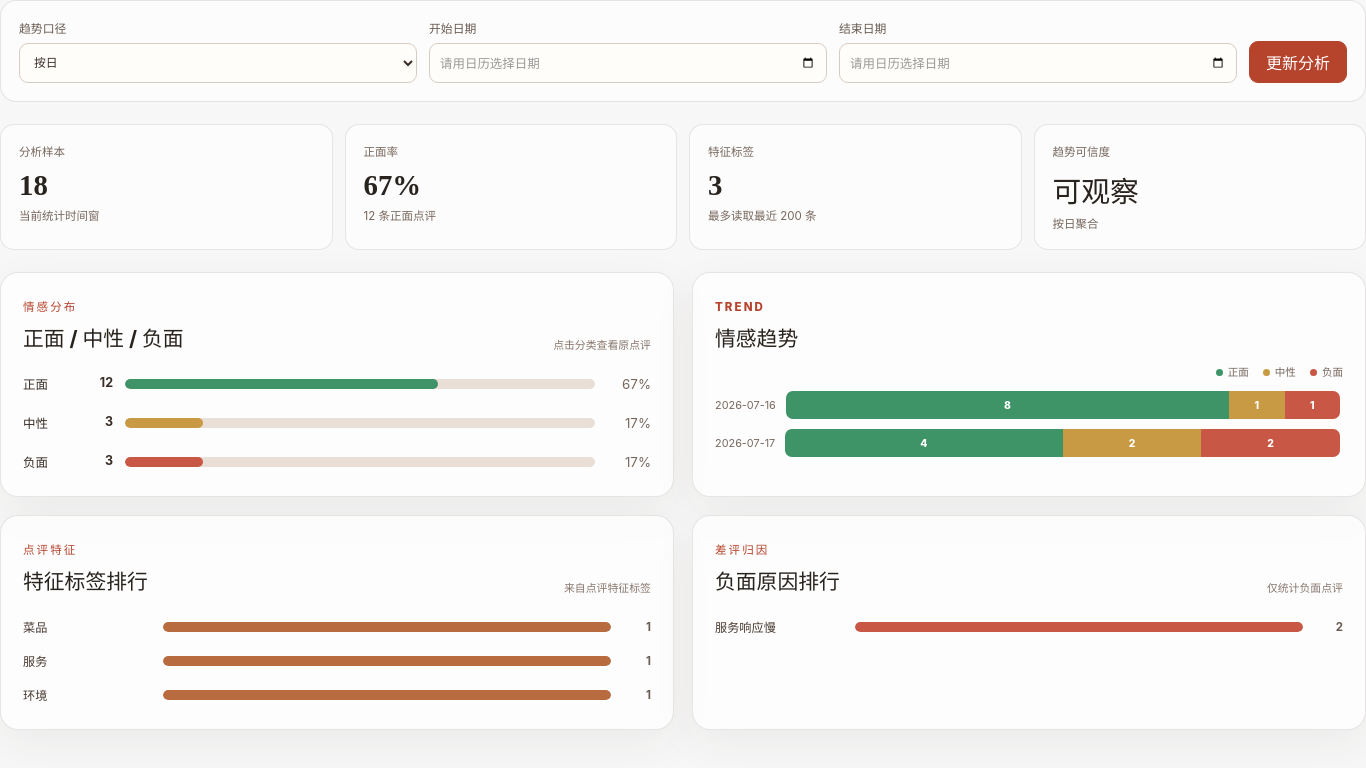
MerchantAnalyticsDashboard › drills a negative attribution down through the review API
Click the button with test id "reason-服务响应慢" at (1029, 627), box [715,615,1343,639]
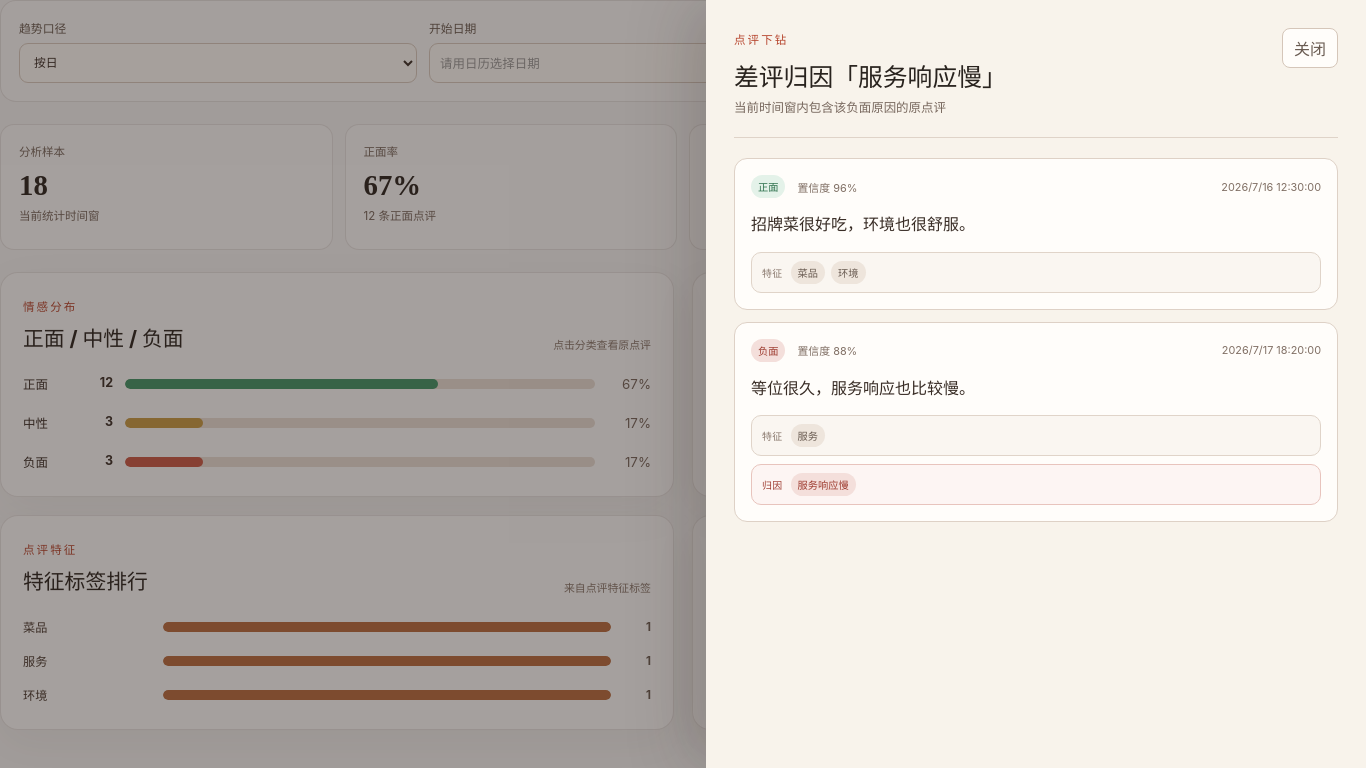
Expected: the dialog shows "差评归因「服务响应慢」", [734,62,1007,92]
Expected: the dialog shows "等位很久", [751,378,975,398]
Expected: the dialog shows "置信度 88%", [798,344,857,358]
